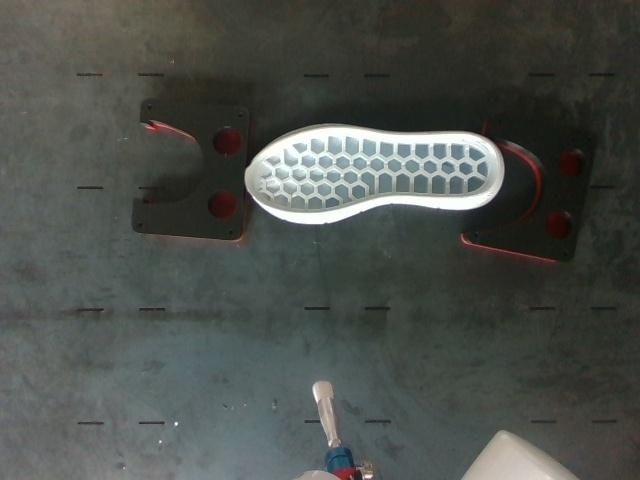shoes: (246, 128, 499, 214)
